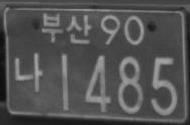0: (123, 15, 144, 46)
1: (51, 53, 79, 110)
4: (84, 54, 111, 113)
5: (150, 56, 178, 116)
8: (117, 55, 143, 115)
9: (100, 14, 121, 45)
나: (14, 52, 43, 93)
부산_O: (42, 13, 91, 45)
